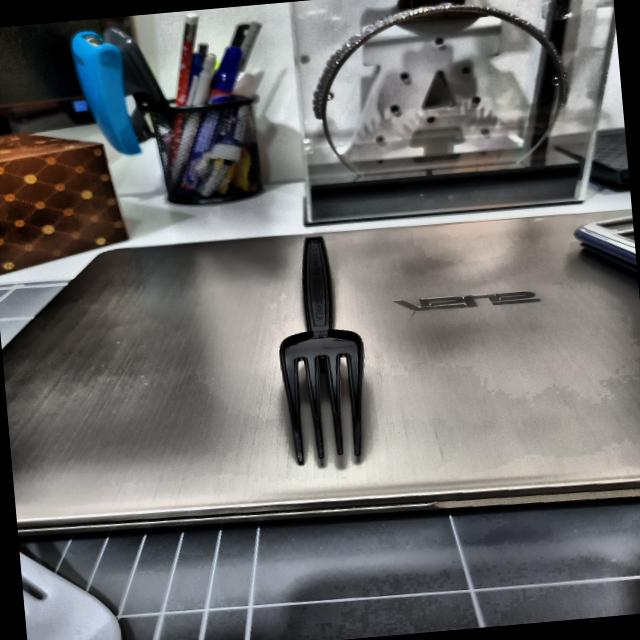plastic utensil: (262, 228, 376, 468)
